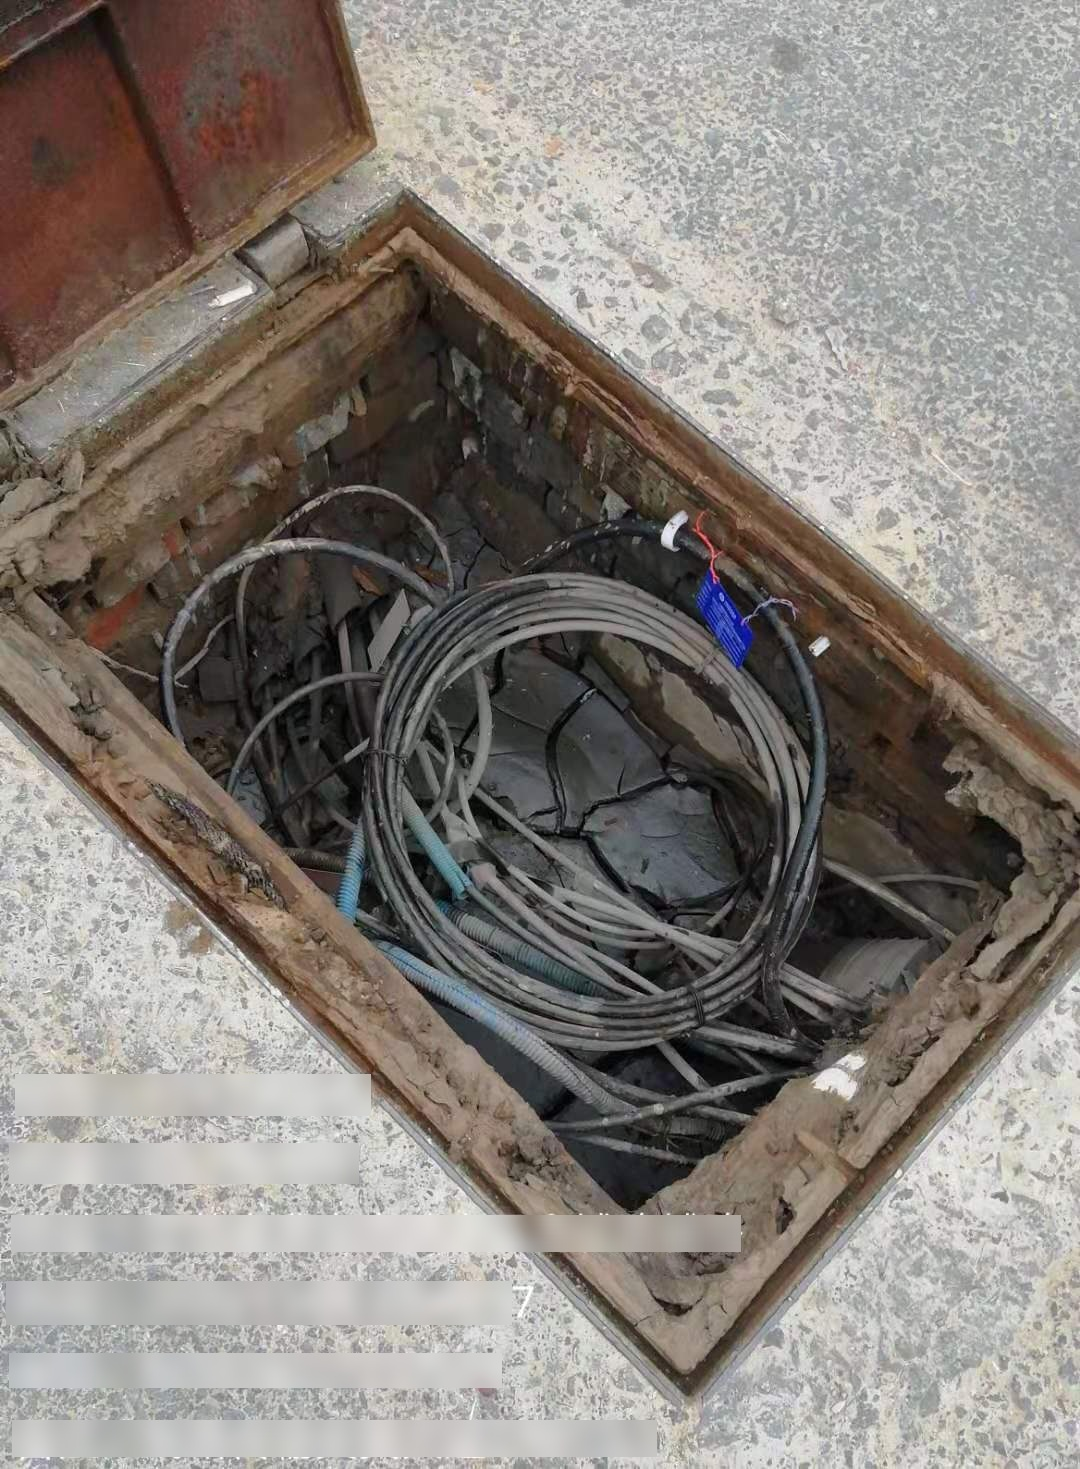uncovered: (5, 9, 1080, 1393)
